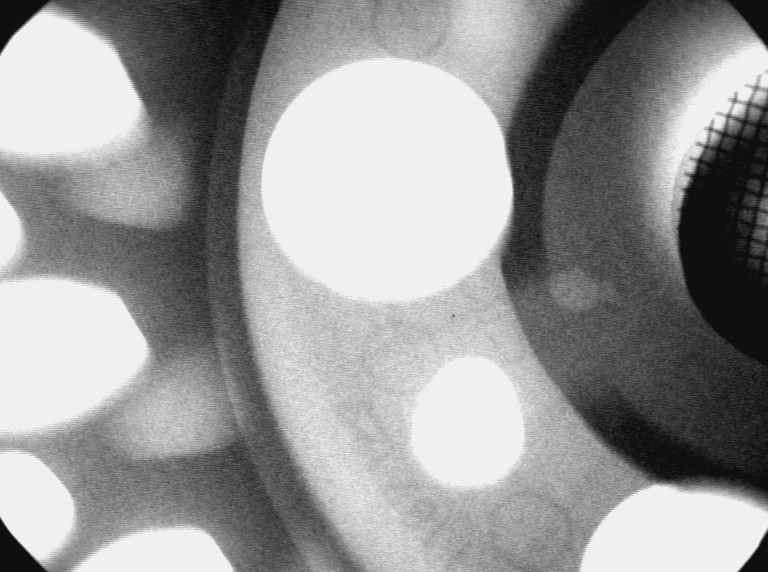defect: (551, 269, 623, 313)
